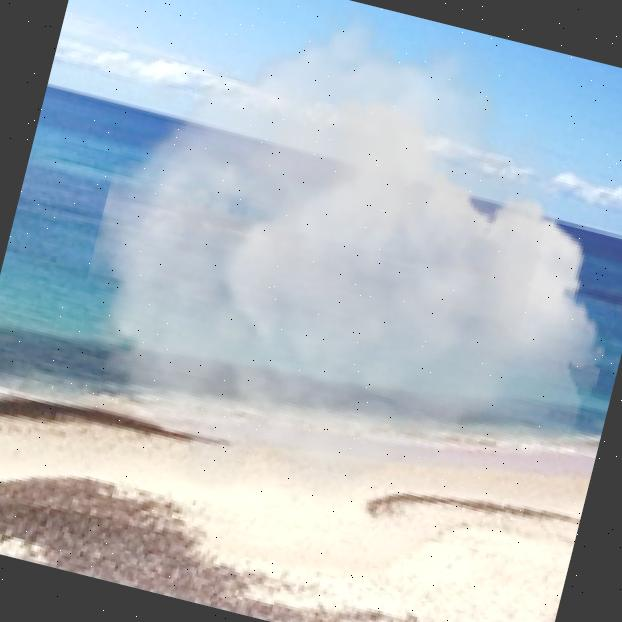smoke: (43, 0, 622, 579)
